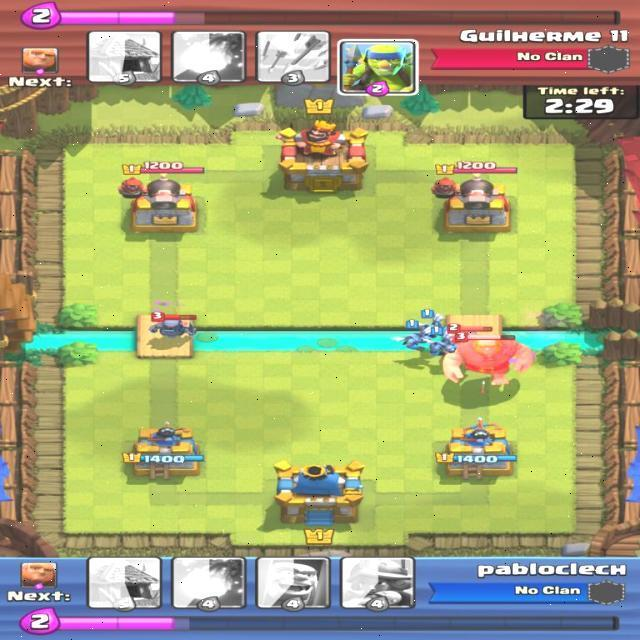ECannoneerTower: (441, 183, 512, 232), (125, 188, 195, 234)
EGiant: (450, 340, 520, 391)
EKingTower: (274, 136, 375, 187)
EMiniPeka: (152, 310, 193, 348)
OwnKingTower: (278, 478, 364, 526)
OwnPrincessTower: (449, 422, 515, 481), (132, 433, 199, 475)
ominion: (403, 320, 423, 350), (422, 311, 443, 338), (430, 338, 451, 354)
